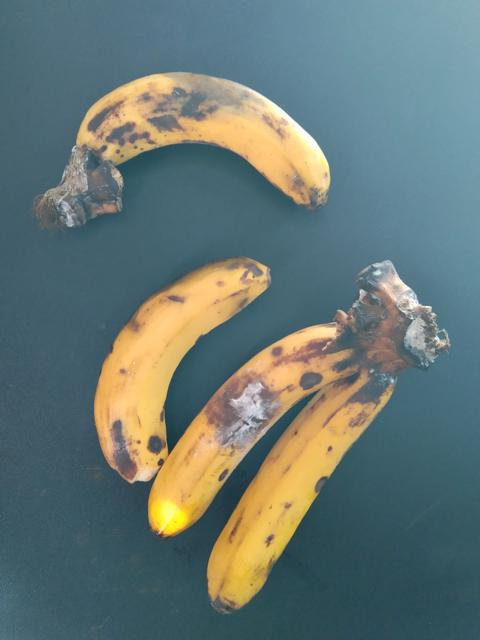overripe: (192, 359, 414, 618), (130, 307, 360, 523), (92, 249, 263, 520), (69, 56, 356, 207)
rotten: (188, 339, 283, 484)
